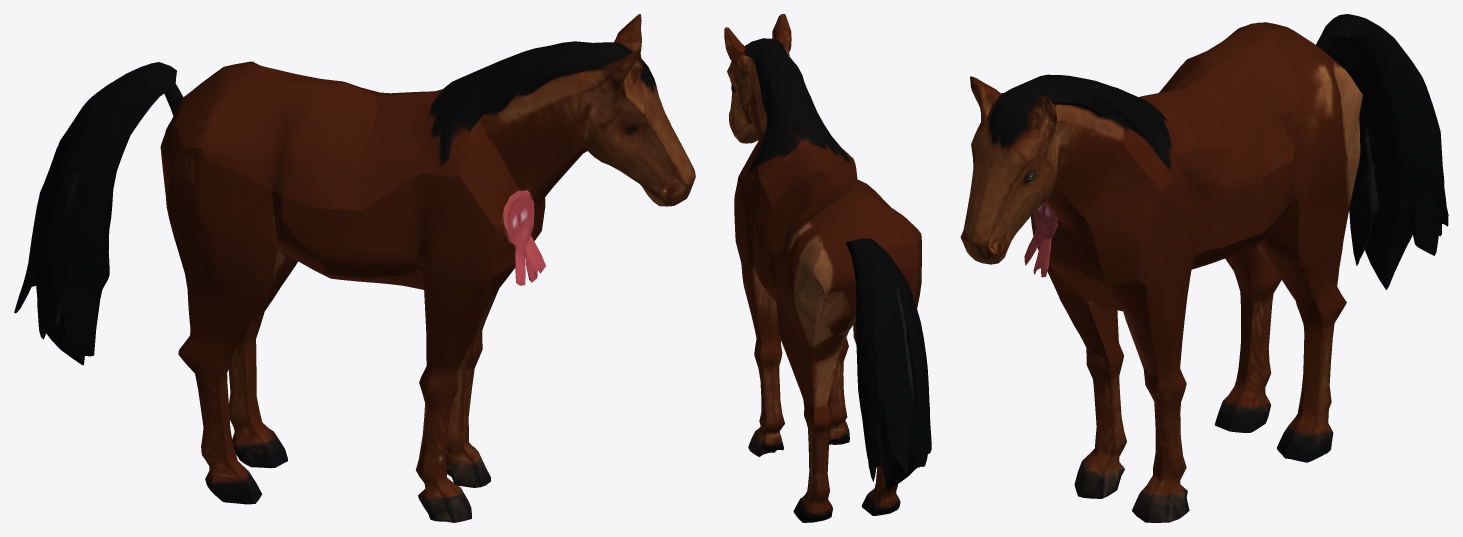
File: CHAR_05.glb
3 renders of one model, left to right at view 1: azimuth 30°, elevation 25°; view 2: azimuth 150°, elevation 25°; view 3: azimuth 270°, elevation 25°, orthographic. The views are drawn at different scales.
Visible parts, largest first — view 1: world; view 2: world; view 3: world.
Boxes of the visible parts, box(x1,y1,x2,y2) form: world: box(14, 14, 695, 522); world: box(724, 14, 931, 522); world: box(960, 14, 1448, 522).
Bounding box in the file's own units: 0.9954 × 1 × 0.9315.
1 material, 1 textured.
